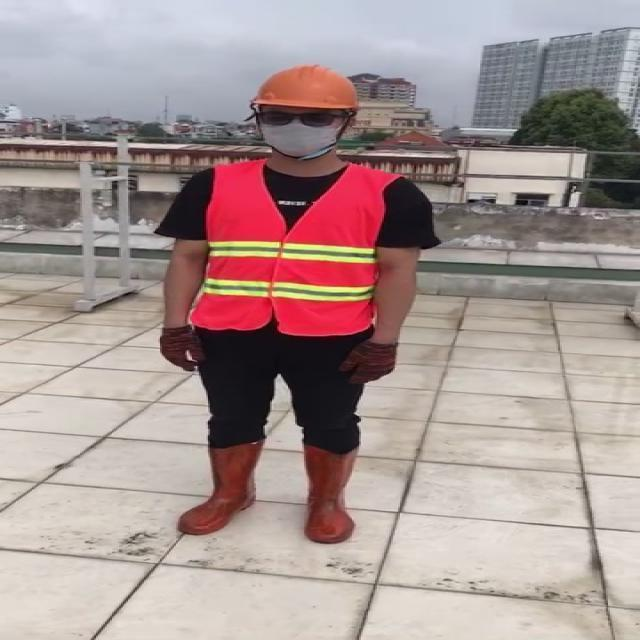helmet: (252, 64, 363, 112)
safety_vest: (192, 161, 391, 334)
